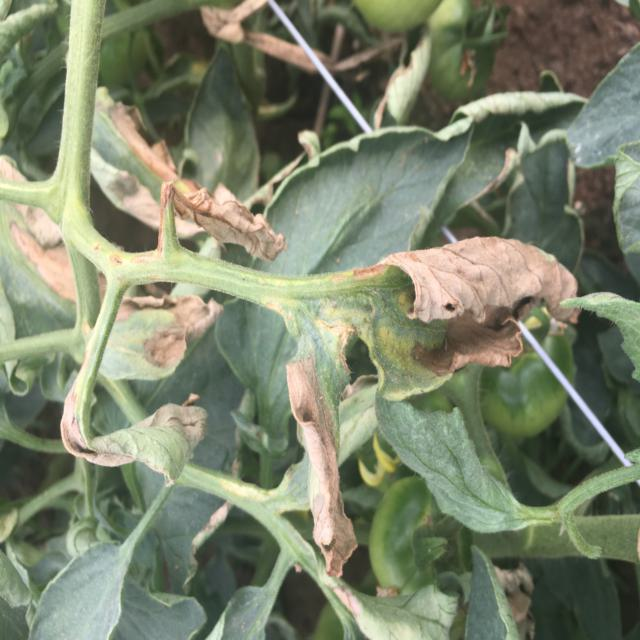Late_blight: (353, 232, 586, 401), (90, 102, 288, 262), (1, 156, 165, 302), (289, 325, 360, 576), (57, 384, 207, 485), (105, 291, 227, 382)
